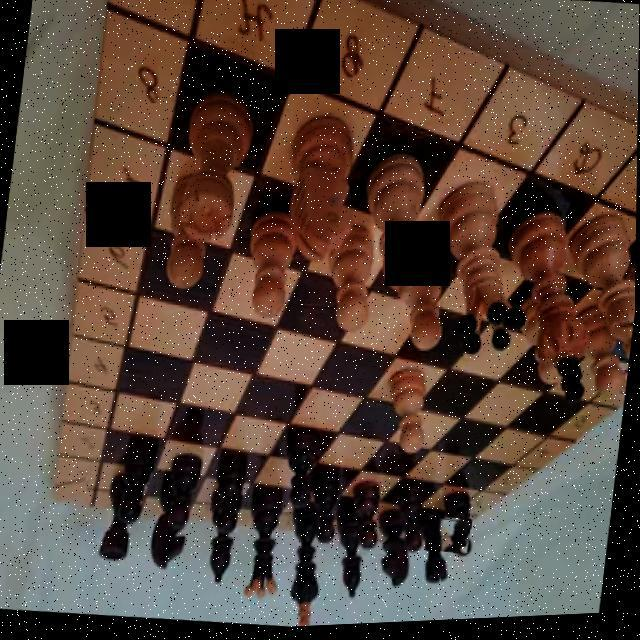chess-table-corners: (46, 470, 90, 510), (428, 518, 472, 558)
